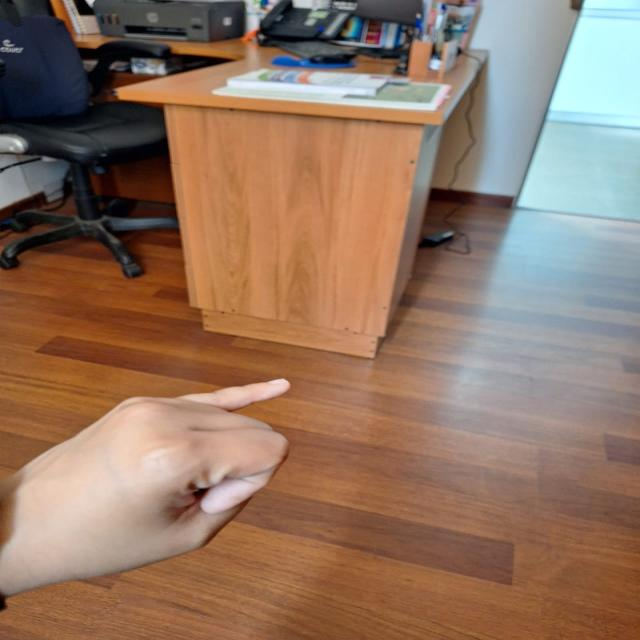Z: (0, 368, 315, 588)
